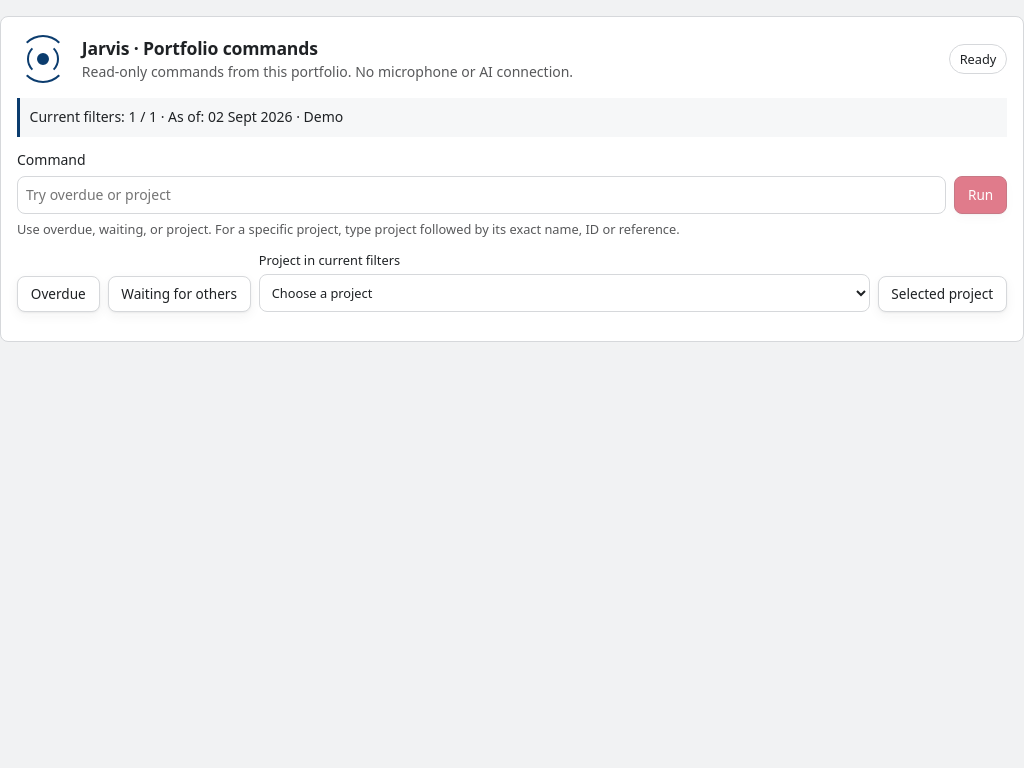
Scenario: Jarvis panel integration › resolves a selected project and rejects a selection removed from the filter scope
Later steps or results of the test are not shown.
Select "Synthetic project · A-1" in the dropdown labelled "Project in current filters" at (564,293), box [259,274,870,312]
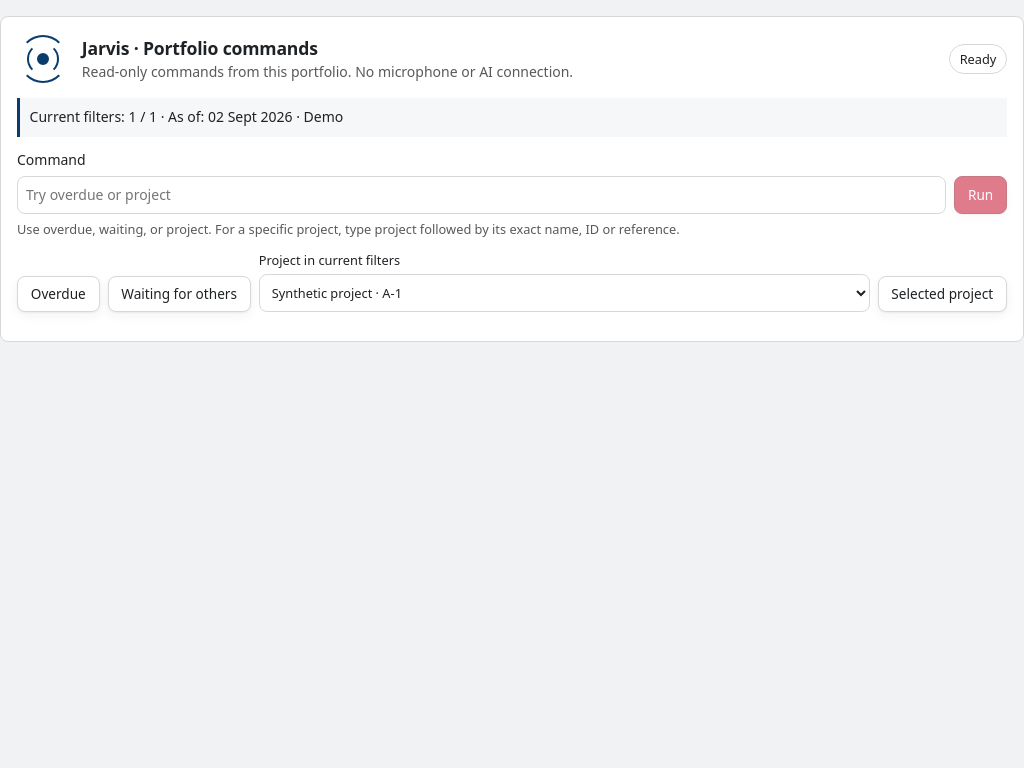
Click the button "Selected project" at (942,294), box [878,276,1007,312]
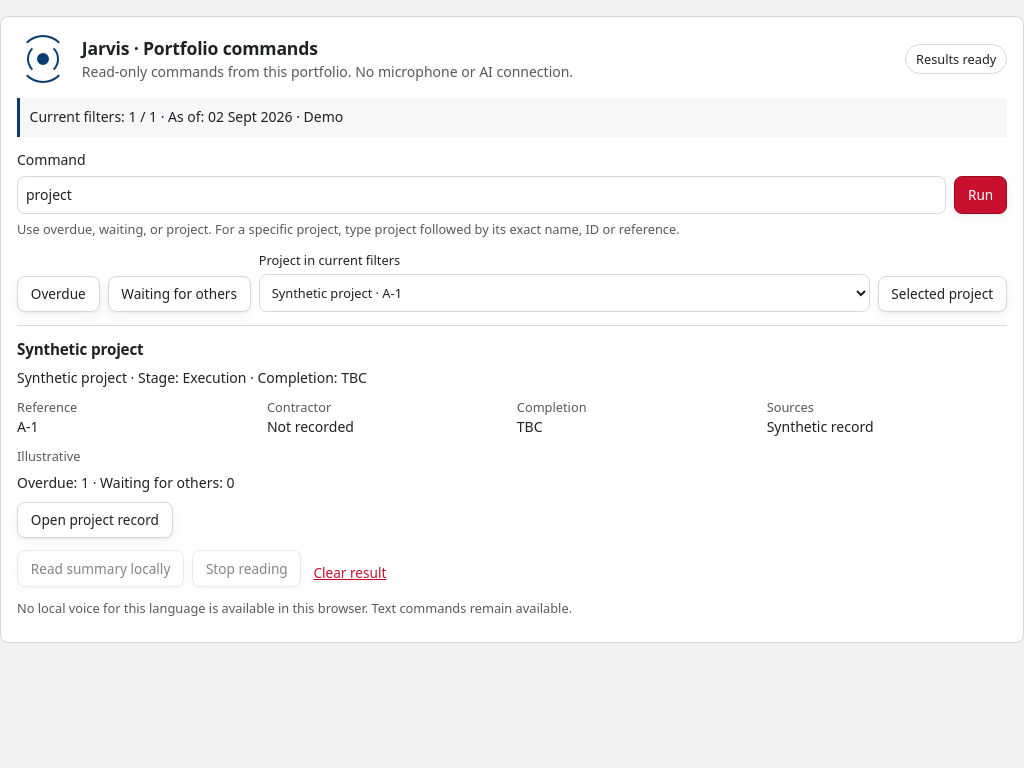
Result: the button "Open project record" is shown at [17,502,173,538]
